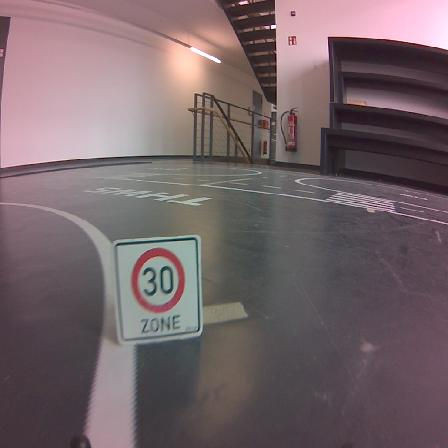30_ZONE_BEGIN: (111, 234, 203, 344)
